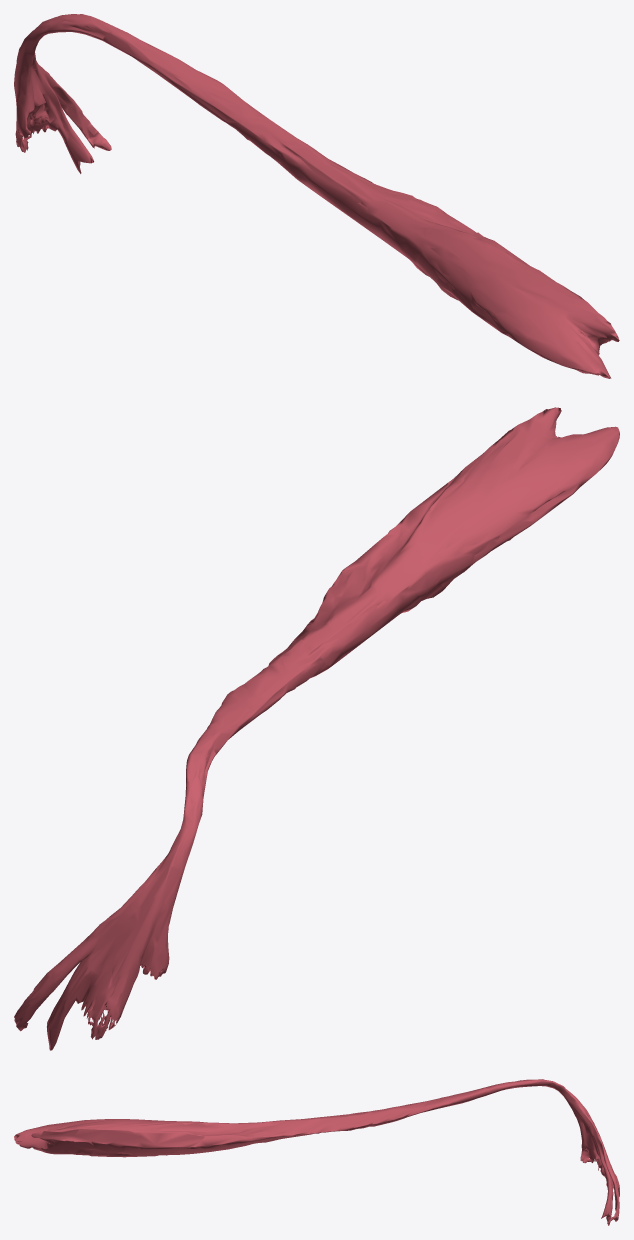
3 views of the same model, one above another, from view 1: azimuth 30°, elevation 25°; view 2: azimuth 150°, elevation 25°; view 3: azimuth 270°, elevation 25° (orthographic). The views are drawn at different scales.
Parts seen in each view (by area): view 1: 左侧胫骨后肌; view 2: 左侧胫骨后肌; view 3: 左侧胫骨后肌.
Boxes of the visible parts, bbox=[...] form: 左侧胫骨后肌: bbox=[14, 14, 619, 378]; 左侧胫骨后肌: bbox=[14, 407, 619, 1050]; 左侧胫骨后肌: bbox=[14, 1079, 619, 1225].
Bounding box in the file's own units: 0.0868 × 0.1196 × 0.5065.
